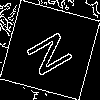N: (25, 25, 83, 79)
